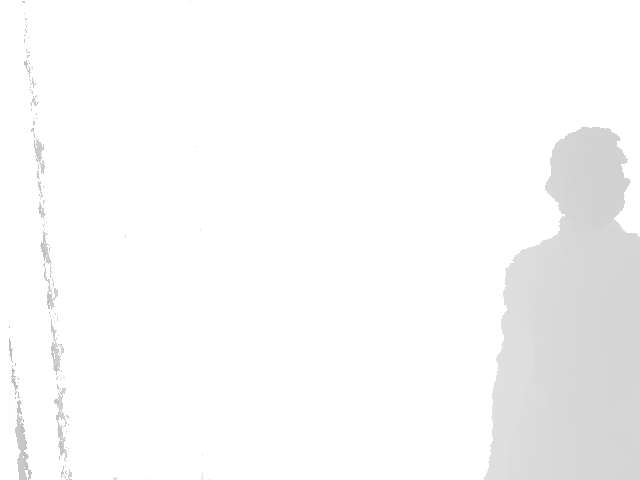head: (545, 127, 631, 230)
person: (482, 127, 640, 478)
